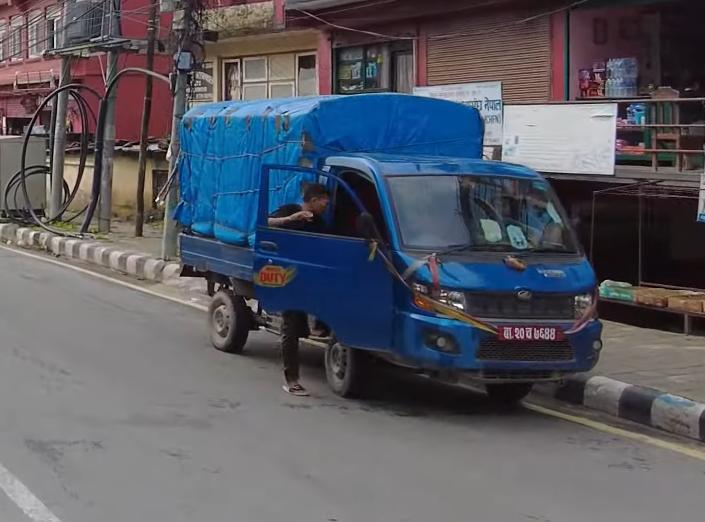mini_truck: (168, 75, 615, 416)
